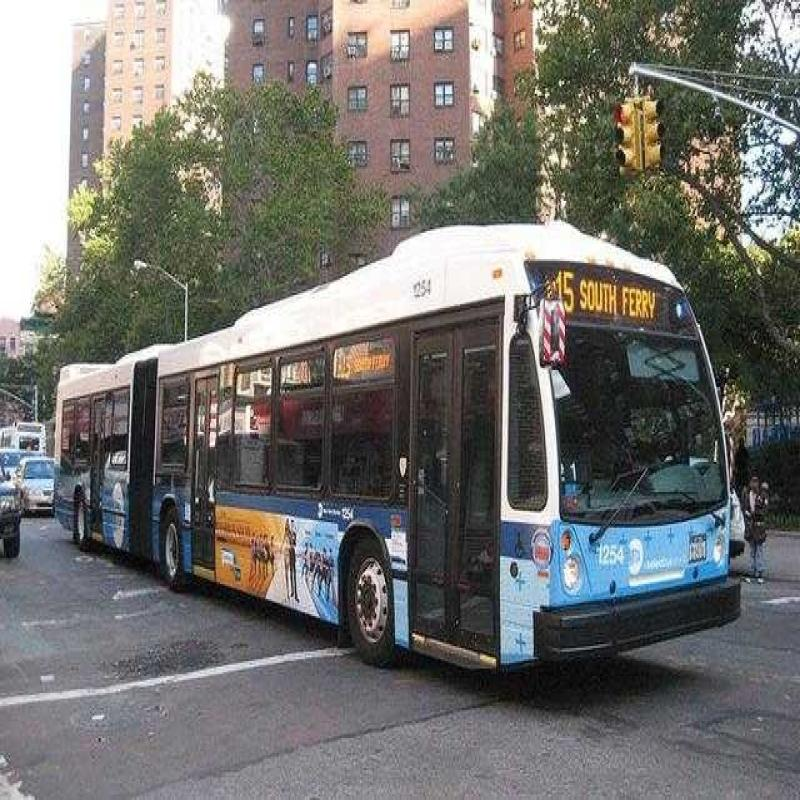bus: (44, 224, 784, 701)
